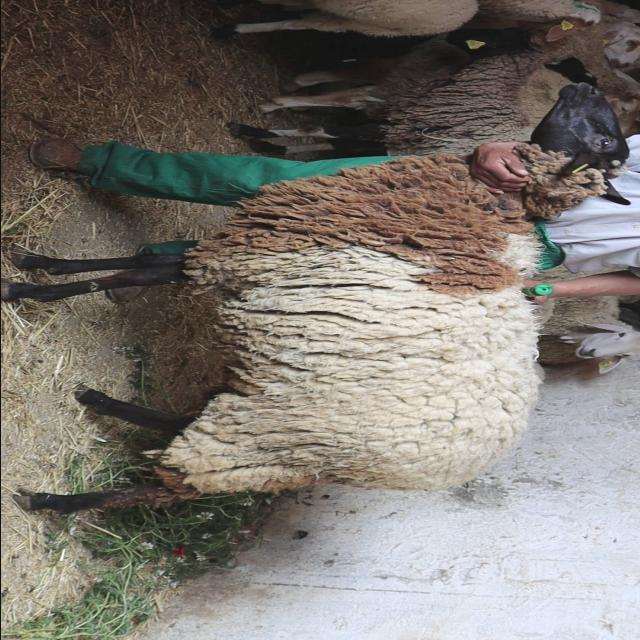Score_5: (2, 83, 628, 513)
